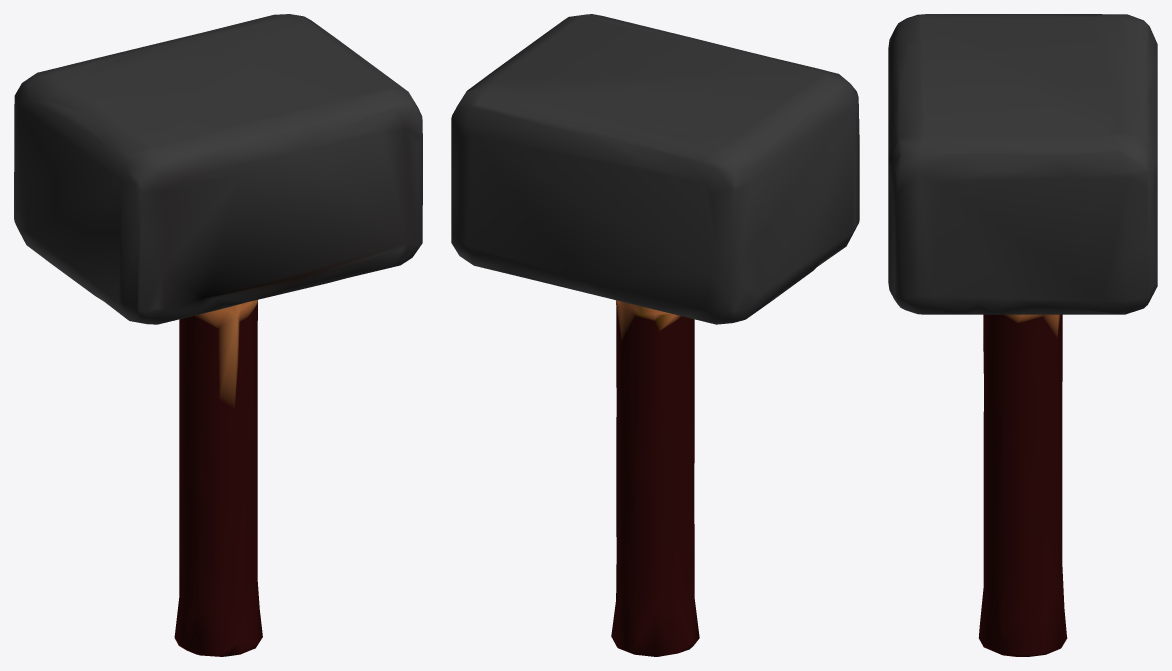
Rendered from gen3d-sledgehammer-lod1.glb.
The picture shows the model from 3 angles, left to right: view 1: azimuth 30°, elevation 25°; view 2: azimuth 150°, elevation 25°; view 3: azimuth 270°, elevation 25°; orthographic projection.
Parts seen in each view (by area): view 1: part_0; view 2: part_0; view 3: part_0.
Boxes of the visible parts, <box> form: part_0: <box>14,14,422,656</box>; part_0: <box>451,14,859,656</box>; part_0: <box>888,14,1157,656</box>.
Size of the model in its own units: 0.5572 by 1 by 0.4331.
